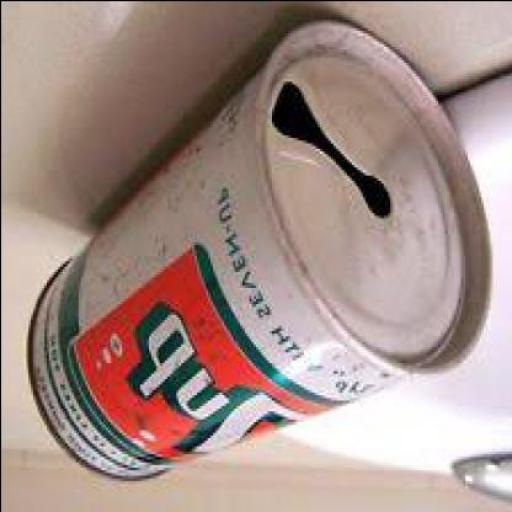metal: (22, 21, 485, 482)
